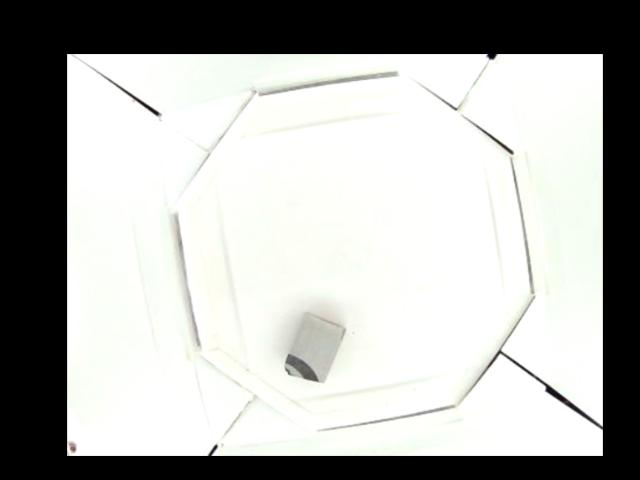China: (283, 312, 344, 381)
